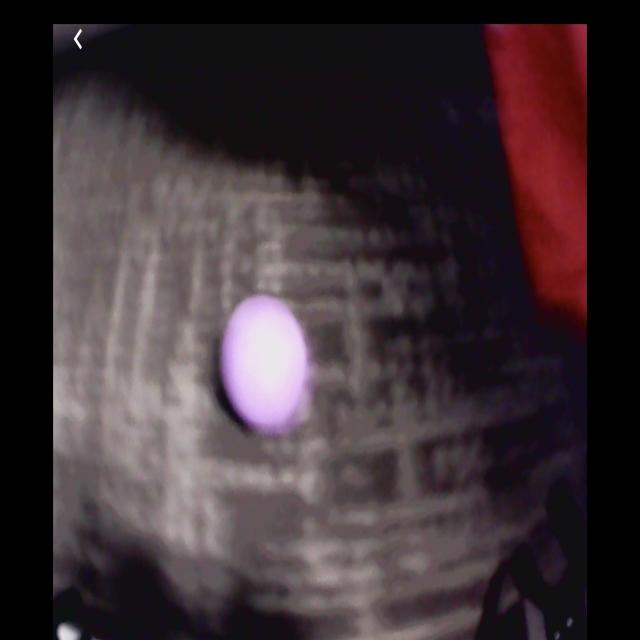ball: (225, 298, 306, 425)
